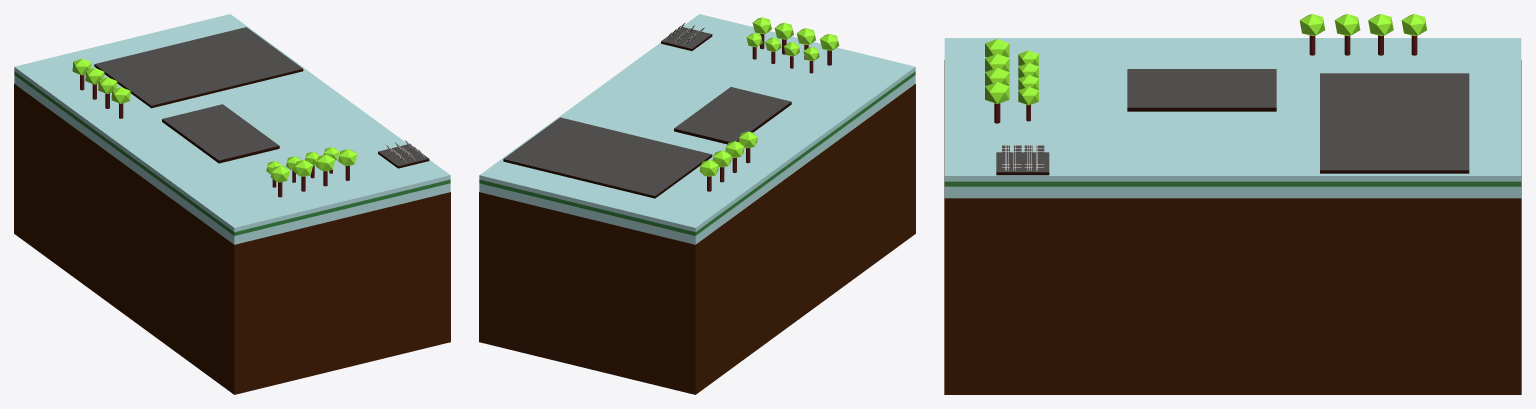
File: floor.glb
3 renders of one model, left to right at view 1: azimuth 30°, elevation 25°; view 2: azimuth 150°, elevation 25°; view 3: azimuth 270°, elevation 25°, orthographic. The views are drawn at different scales.
Parts seen in each view (by area): view 1: Cube.007, Cube.004, Cube.002, Cube.005, Cube.006, Cube.003; view 2: Cube.007, Cube.004, Cube.002, Cube.005, Cube.006, Cube.003; view 3: Cube.007, Cube.004, Cube.002, Cube.005, Cube.006, Cube.003, Plane.035, tree.006, tree.011, tree.010, tree.012, tree.009.
Boxes of the visible parts, left/top/right/bottom form: Cube.007: left=14, top=84, right=450, bottom=394; Cube.004: left=14, top=14, right=450, bottom=244; Cube.002: left=94, top=27, right=428, bottom=166; Cube.005: left=195, top=154, right=417, bottom=227; Cube.006: left=14, top=71, right=450, bottom=235; Cube.003: left=94, top=64, right=429, bottom=168; Cube.007: left=479, top=84, right=915, bottom=394; Cube.004: left=479, top=14, right=915, bottom=244; Cube.002: left=504, top=27, right=790, bottom=195; Cube.005: left=692, top=22, right=915, bottom=95; Cube.006: left=479, top=71, right=915, bottom=235; Cube.003: left=503, top=34, right=791, bottom=198; Cube.007: left=944, top=60, right=1521, bottom=394; Cube.004: left=944, top=38, right=1521, bottom=198; Cube.002: left=996, top=69, right=1469, bottom=172; Cube.005: left=944, top=38, right=1049, bottom=155; Cube.006: left=944, top=181, right=1521, bottom=186; Cube.003: left=996, top=107, right=1469, bottom=175; Plane.035: left=1002, top=145, right=1044, bottom=170; tree.006: left=985, top=82, right=1009, bottom=123; tree.011: left=1334, top=14, right=1360, bottom=55; tree.010: left=1401, top=14, right=1426, bottom=55; tree.012: left=1299, top=14, right=1325, bottom=55; tree.009: left=1368, top=14, right=1393, bottom=55.
Bounding box in the file's own units: 200 × 175 × 352.
8 materials, 1 textured.
